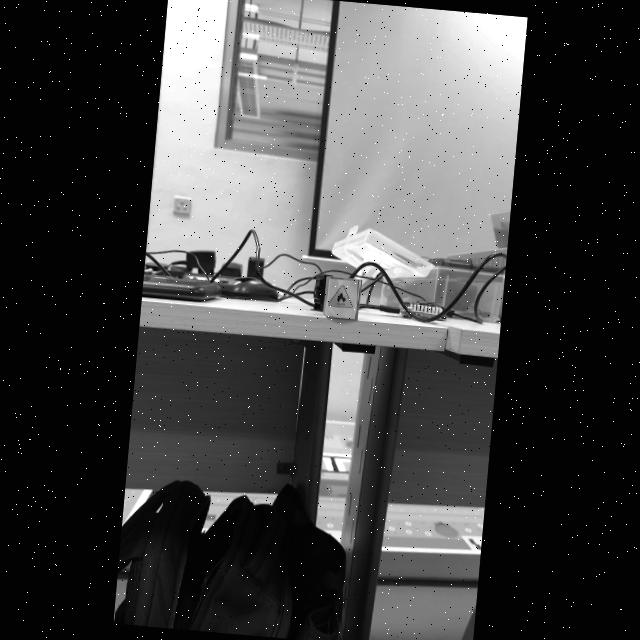Fire: (328, 285, 351, 308)
